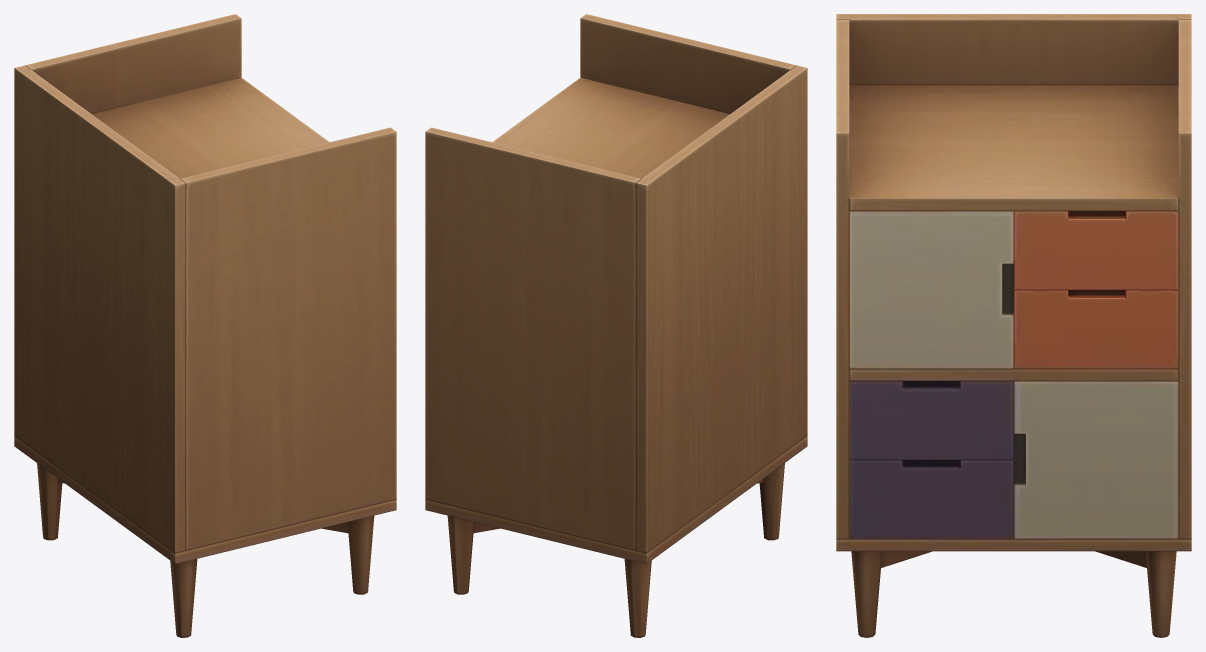
File: tiny_stubby_cubby_dresser.glb
3 views of the same model, side by side, from view 1: azimuth 30°, elevation 25°; view 2: azimuth 150°, elevation 25°; view 3: azimuth 270°, elevation 25° (orthographic). The views are drawn at different scales.
Parts seen in each view (by area): view 1: Object_78; view 2: Object_78; view 3: Object_78.
Boxes of the visible parts, x1,y1,x2,y2 form: Object_78: [14, 14, 396, 637]; Object_78: [425, 14, 807, 637]; Object_78: [836, 14, 1191, 637].
Bounding box in the file's own units: 0.9849 × 1.98 × 1.24.
1 material, 1 textured.
